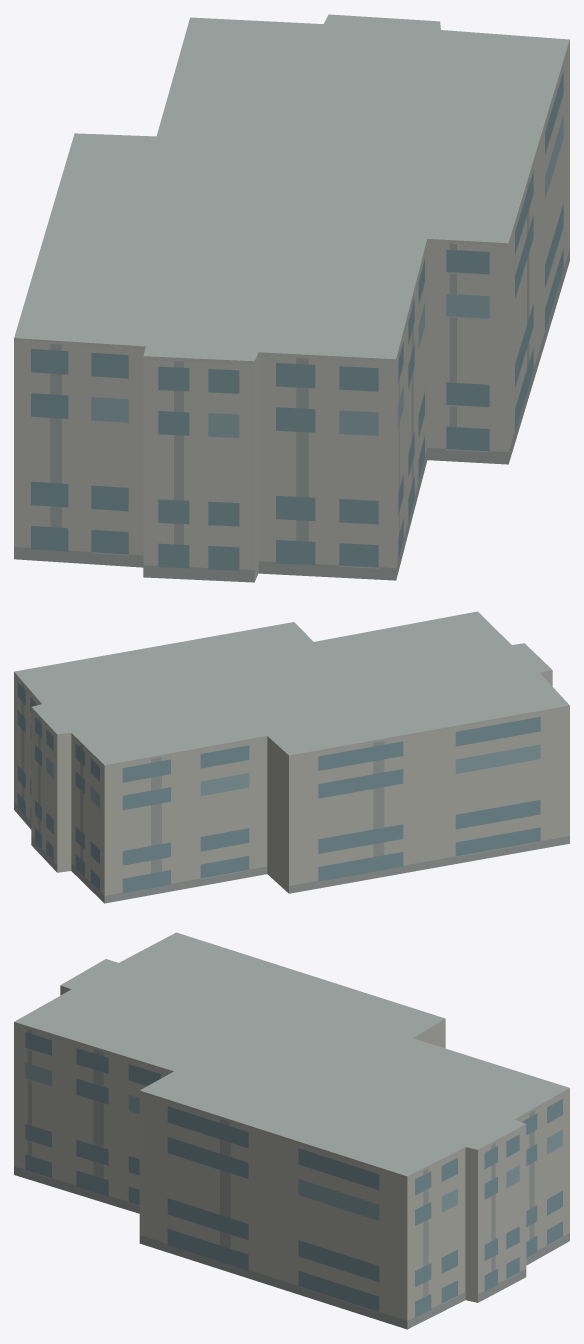
File: survey-upis-32697069.glb
The picture shows the model from 3 angles, top to bottom: view 1: azimuth 30°, elevation 25°; view 2: azimuth 150°, elevation 25°; view 3: azimuth 270°, elevation 25°; orthographic projection. The views are drawn at different scales.
Visible parts, largest first — view 1: survey-upis-32697069.tmp; view 2: survey-upis-32697069.tmp; view 3: survey-upis-32697069.tmp.
Part boxes in pixels (left/top/right/bottom): survey-upis-32697069.tmp: left=14, top=14, right=569, bottom=582; survey-upis-32697069.tmp: left=14, top=611, right=569, bottom=903; survey-upis-32697069.tmp: left=14, top=932, right=569, bottom=1329.
Size of the model in its own units: 52.14 by 15.25 by 50.2.
